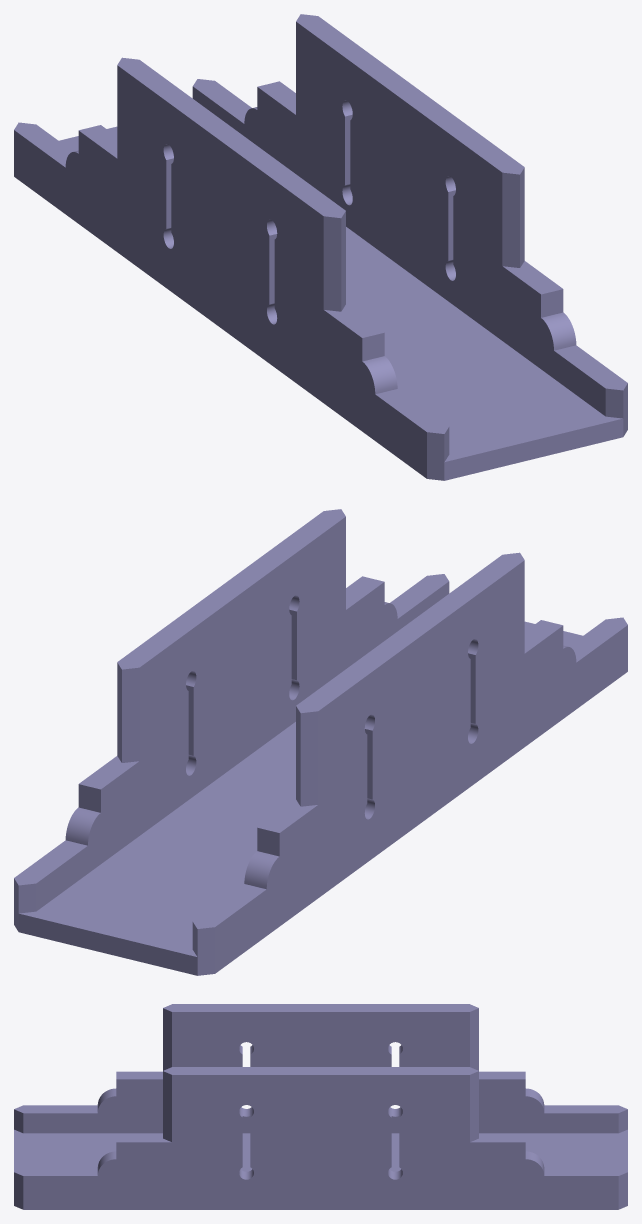
The model's file is corridor3.fbx.
3 views of the same model, one above another, from view 1: azimuth 30°, elevation 25°; view 2: azimuth 150°, elevation 25°; view 3: azimuth 270°, elevation 25° (orthographic). The views are drawn at different scales.
Visible parts, largest first — view 1: mergedBlocks; view 2: mergedBlocks; view 3: mergedBlocks.
Part boxes in pixels (box(x1,y1,x2,y2)): mergedBlocks: box(14, 14, 627, 480); mergedBlocks: box(14, 509, 627, 975); mergedBlocks: box(14, 1004, 627, 1209).
Bounding box in the file's own units: 11.25 × 10 × 41.25.
